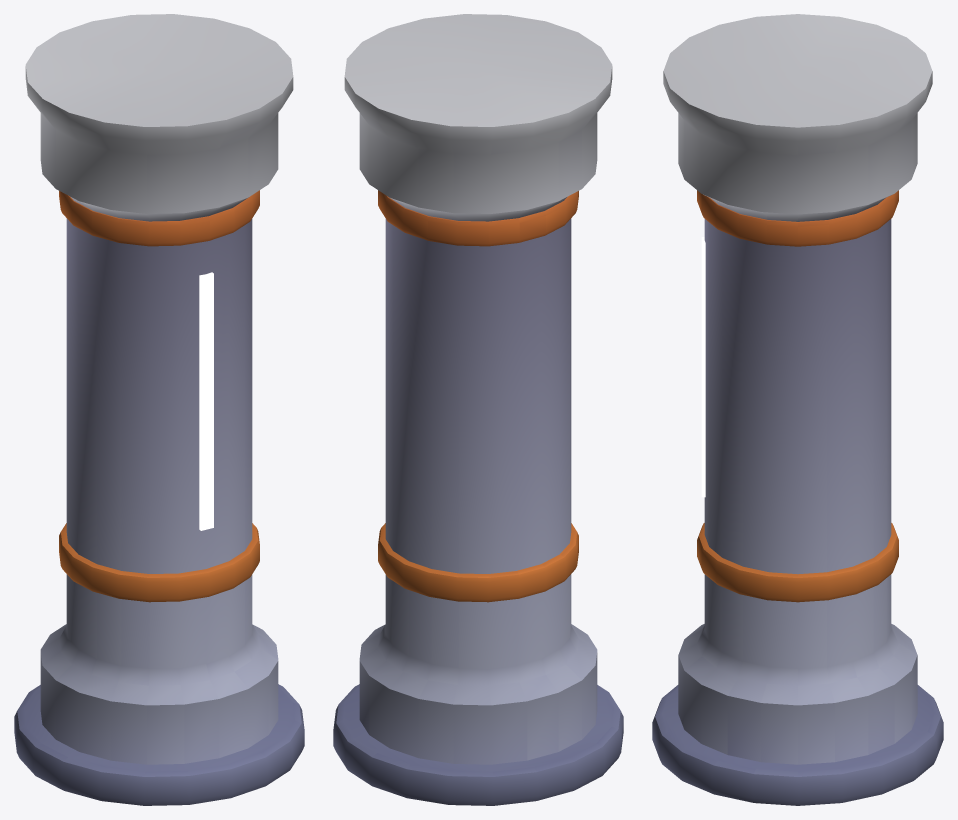
The model's file is hub_ruin_pillar.glb.
3 renders of one model, left to right at view 1: azimuth 30°, elevation 25°; view 2: azimuth 150°, elevation 25°; view 3: azimuth 270°, elevation 25°, orthographic.
Parts seen in each view (by area): view 1: hub_ruin_pillar; view 2: hub_ruin_pillar; view 3: hub_ruin_pillar.
Part boxes in pixels (bbox=[...]): hub_ruin_pillar: bbox=[14, 14, 304, 805]; hub_ruin_pillar: bbox=[333, 14, 623, 805]; hub_ruin_pillar: bbox=[652, 14, 943, 805].
Size of the model in its own units: 1.56 by 4 by 1.56.
